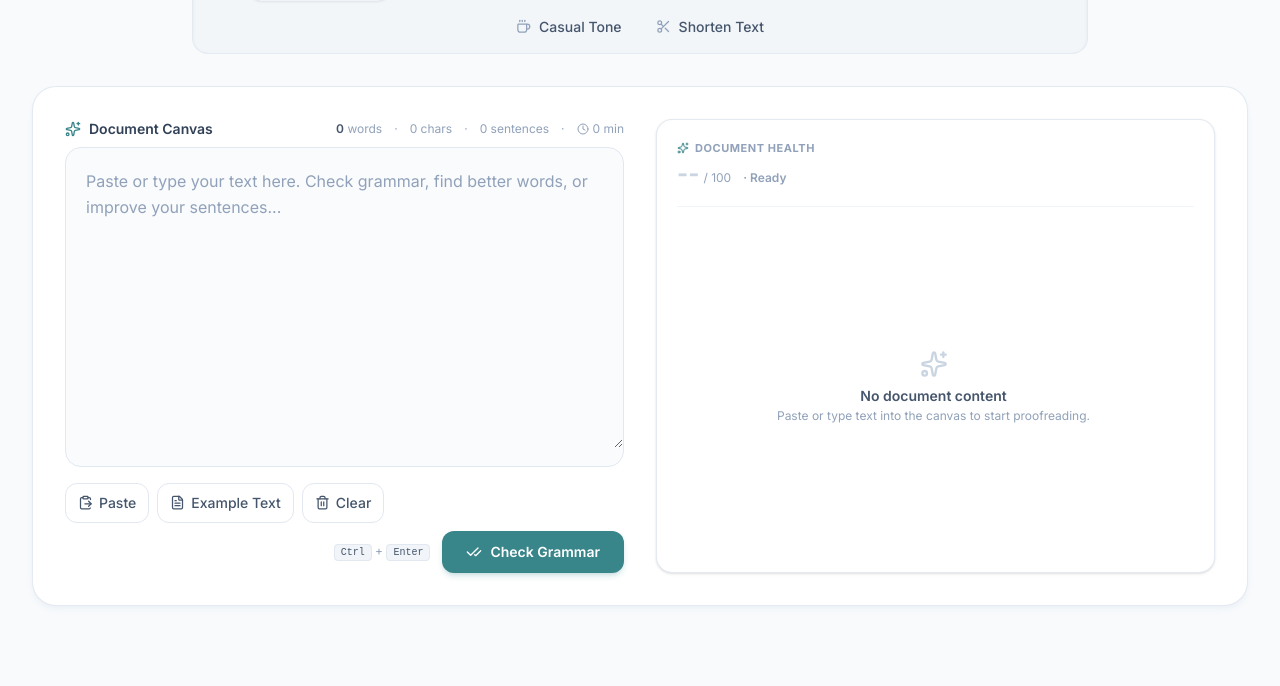
Test: React Components › WritingEditor component › shows validation error when Improve Text is clicked on empty input
(page scrolled)
Step 1. Click the button with aria-label "Improve text" → (533, 552), box [442,530,624,572]
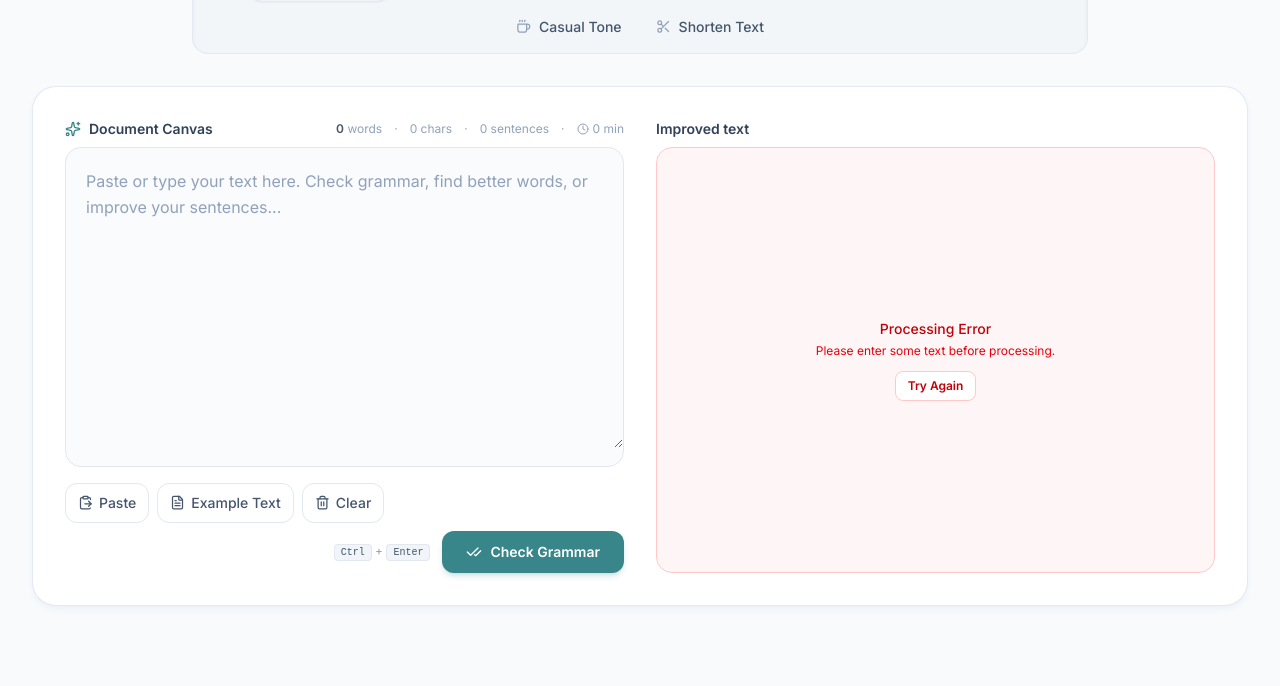
Check: the message "Processing Error Please enter some text before processing. Try Again" is shown, box [656,146,1215,572]
Check: the text "Please enter some text before processing." is shown, box [816,342,1055,358]
